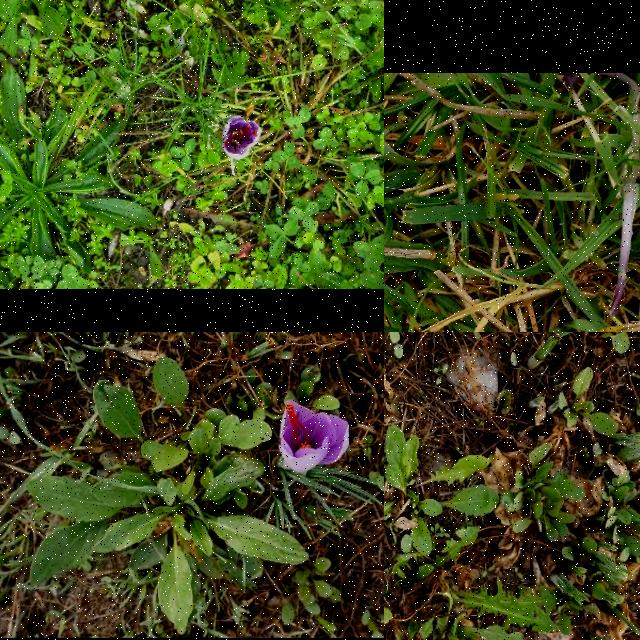flower: (280, 404, 348, 471), (223, 114, 261, 160)
